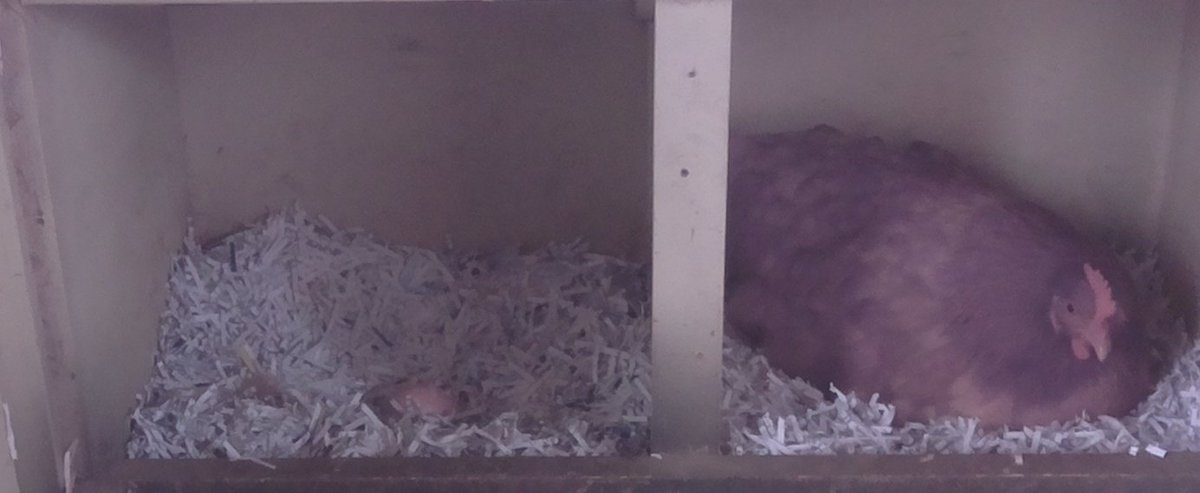egg: (387, 378, 470, 427)
hen: (736, 126, 1162, 443)
